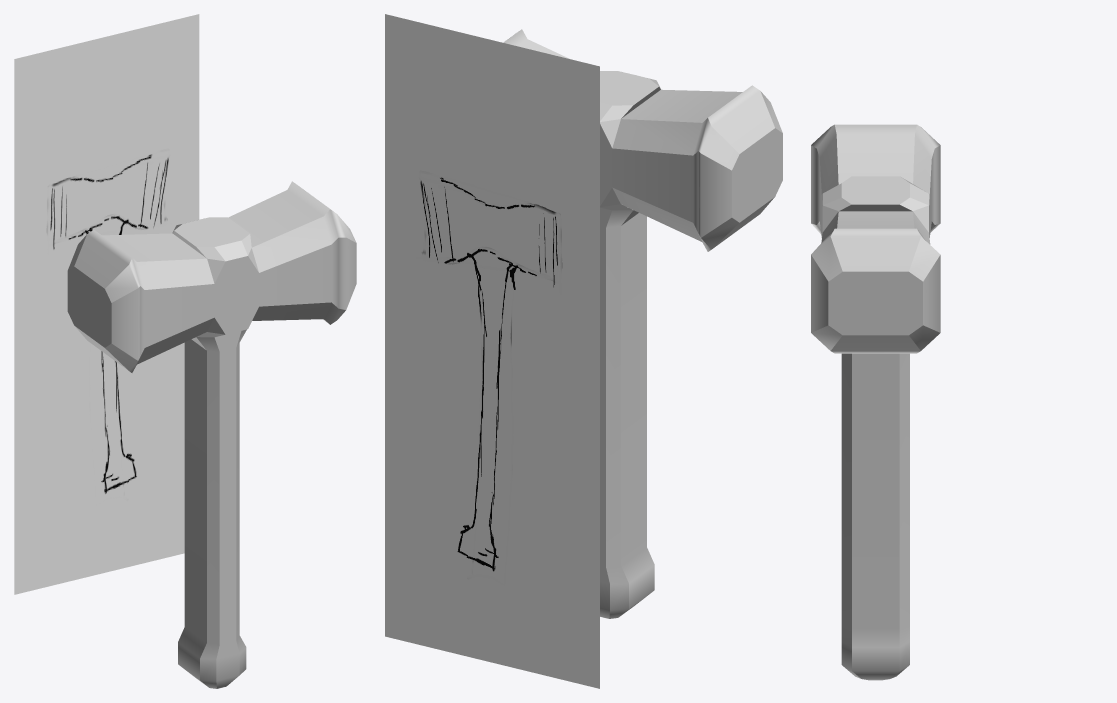
The model's file is Hammer.fbx.
3 renders of one model, left to right at view 1: azimuth 30°, elevation 25°; view 2: azimuth 150°, elevation 25°; view 3: azimuth 270°, elevation 25°, orthographic. The views are drawn at different scales.
Parts seen in each view (by area): view 1: pPlane1, pCube1; view 2: pPlane1, pCube1; view 3: pCube1.
Boxes of the visible parts, left/top/right/bottom form: pPlane1: left=14, top=14, right=199, bottom=594; pCube1: left=67, top=181, right=356, bottom=688; pPlane1: left=385, top=14, right=599, bottom=688; pCube1: left=503, top=29, right=782, bottom=618; pCube1: left=811, top=124, right=940, bottom=680.
Size of the model in its own units: 1.32 by 2.94 by 1.27.
Materials: 2 (1 with a texture image).
